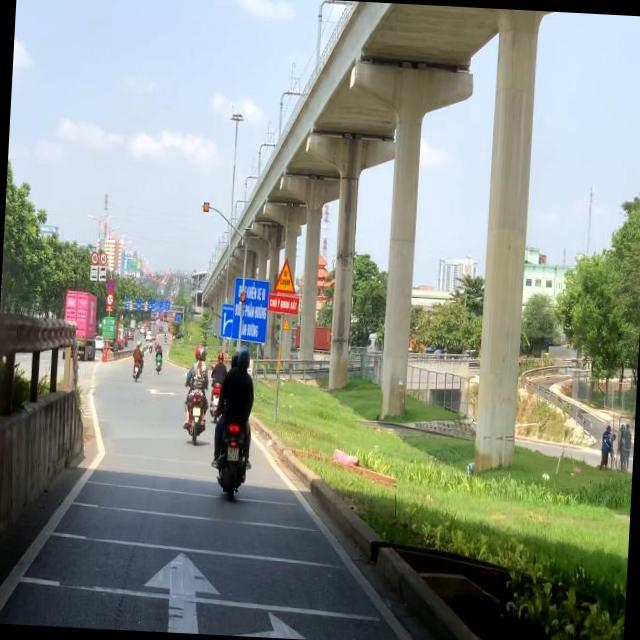W-245a: (272, 258, 296, 296)
